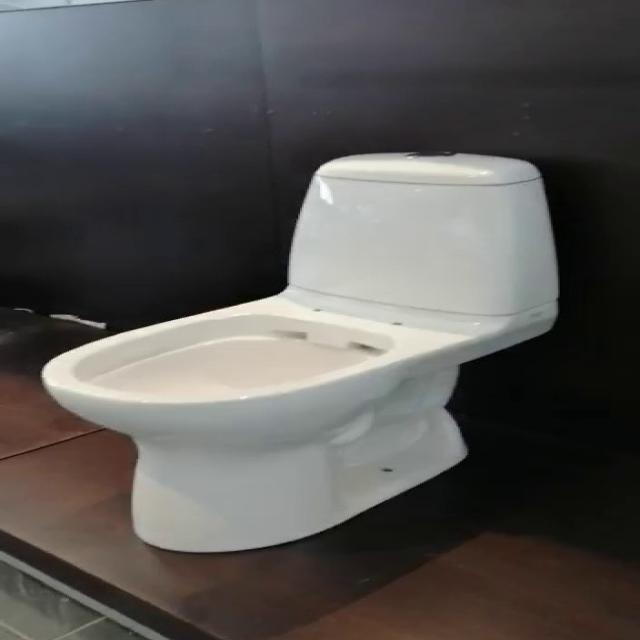toilet: (38, 149, 560, 553)
